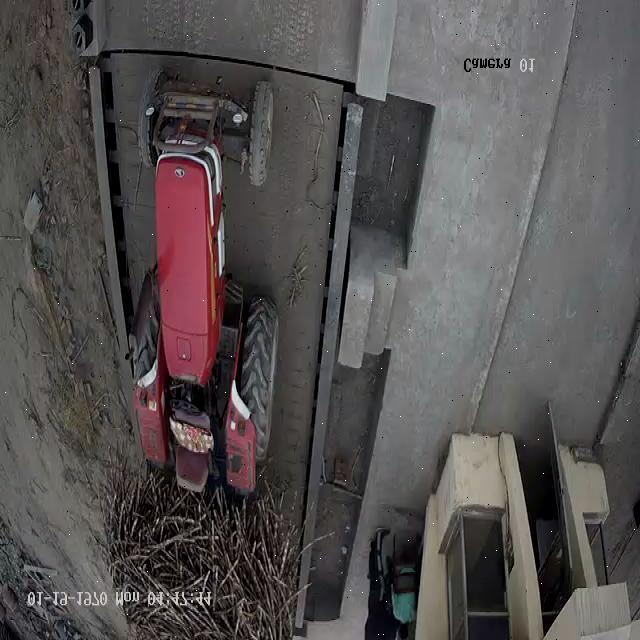Tratores - v5 YOLO V8L 2024-11-13: (141, 68, 284, 494)
